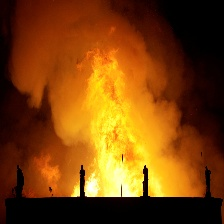fire: (74, 47, 163, 199)
smoke: (7, 4, 207, 164)
